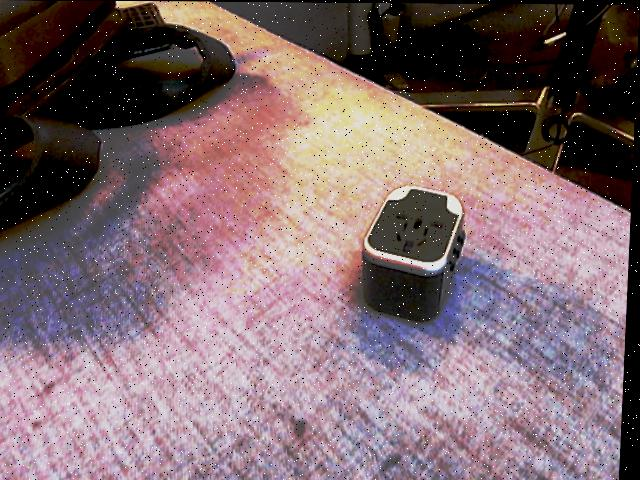adapter: (361, 183, 470, 322)
